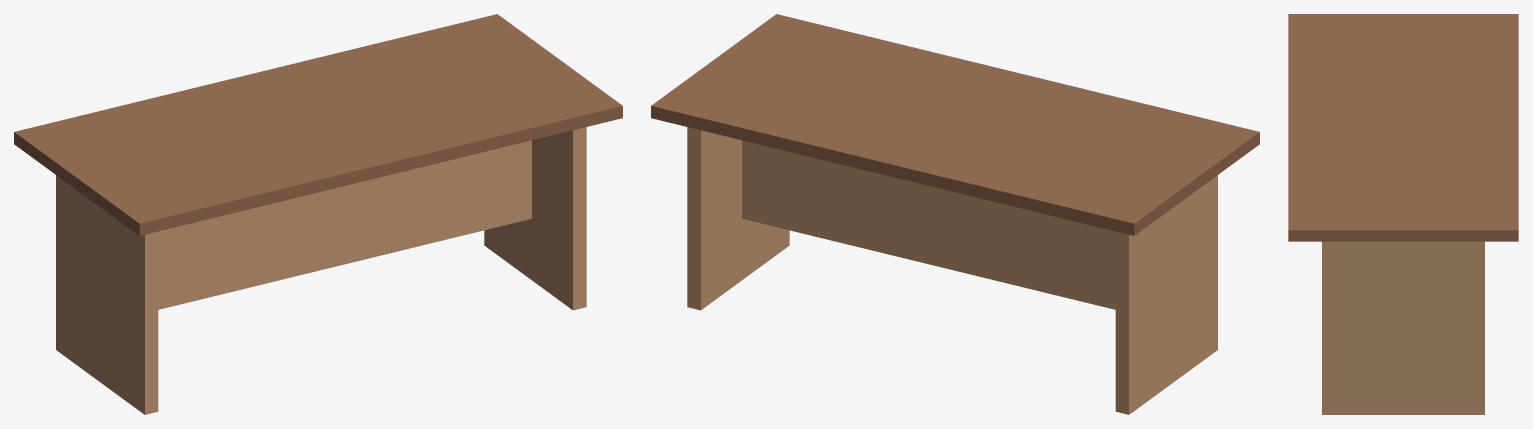
File: Escritorio.fbx
3 views of the same model, side by side, from view 1: azimuth 30°, elevation 25°; view 2: azimuth 150°, elevation 25°; view 3: azimuth 270°, elevation 25° (orthographic). The views are drawn at different scales.
Parts seen in each view (by area): view 1: Cube.003; view 2: Cube.003; view 3: Cube.003.
Boxes of the visible parts, x1=… form: Cube.003: x1=14, y1=14, x2=622, y2=414; Cube.003: x1=651, y1=14, x2=1259, y2=414; Cube.003: x1=1288, y1=14, x2=1518, y2=414.
Size of the model in its own units: 219 by 91.26 by 98.64.
